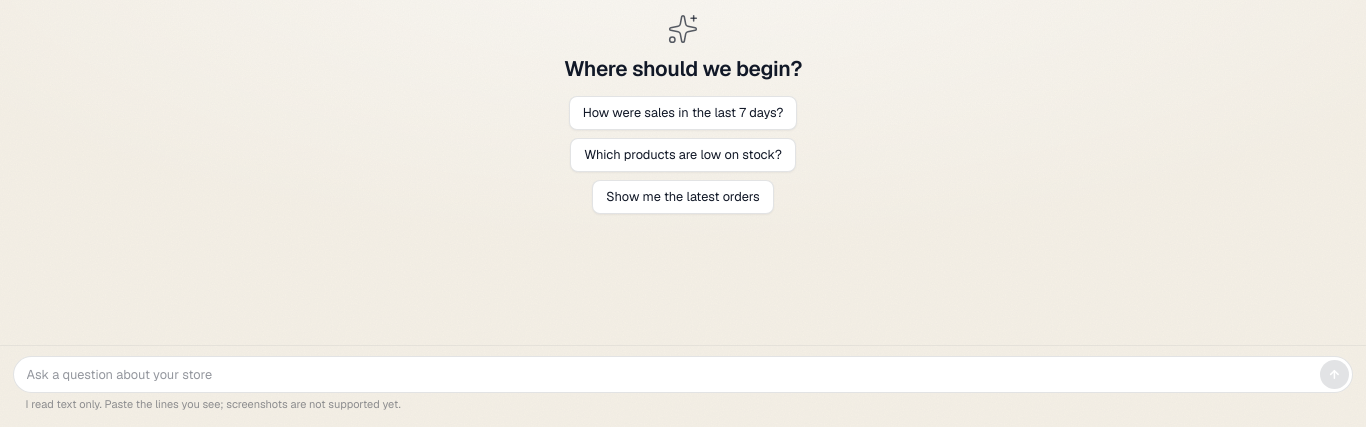
AssistantChat › shows a guided answer as one list and offers no Next chip
This screenshot has width=1366, height=427.
Type "add a View all button" into the field named "Your question" at (670, 374), box [27,360,1314,389]
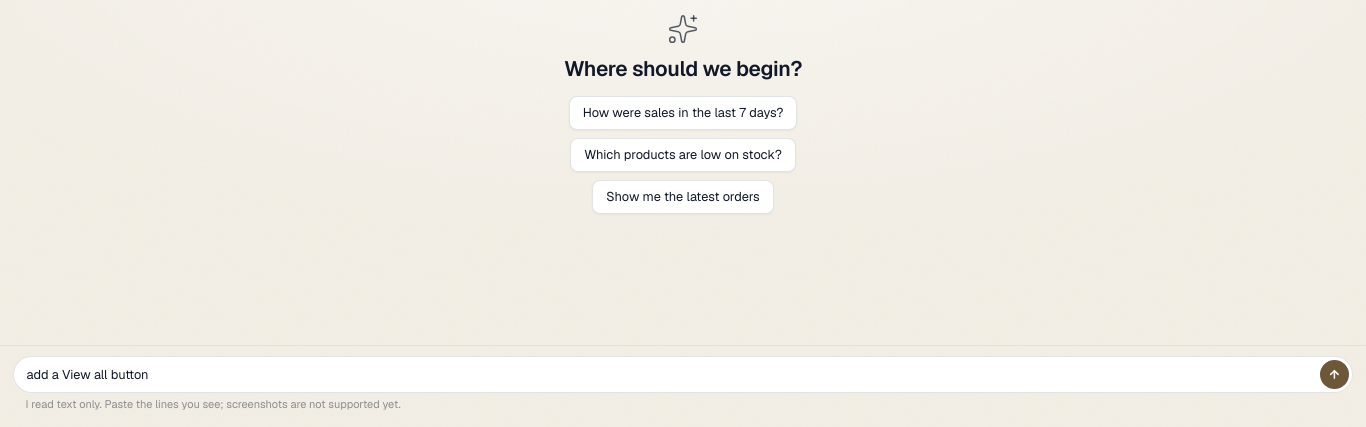
Click the button named "Send" at (1335, 374), box [1320,360,1349,389]
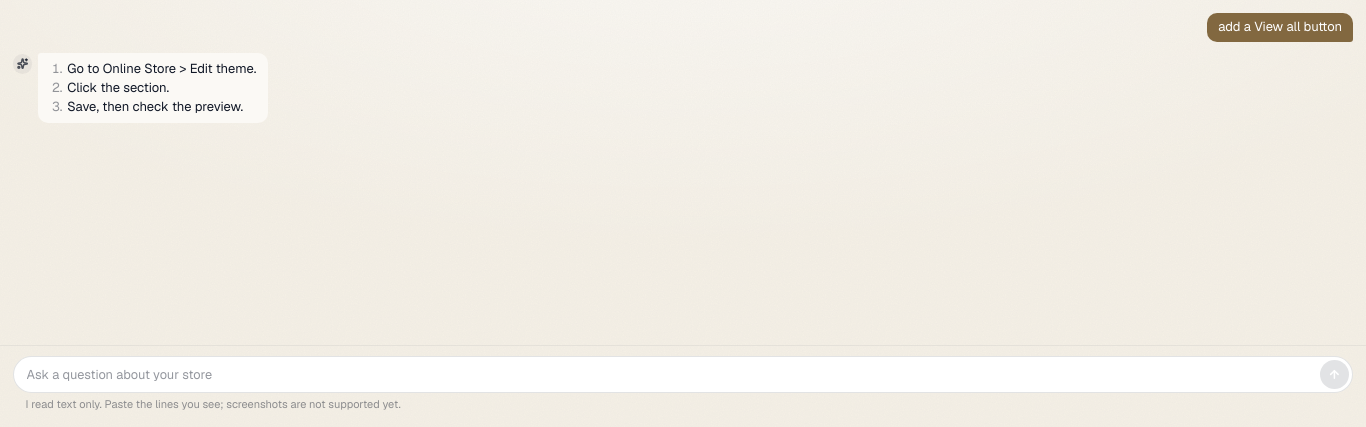
Expected: the text "Click the section." is shown, [67,79,169,96]
